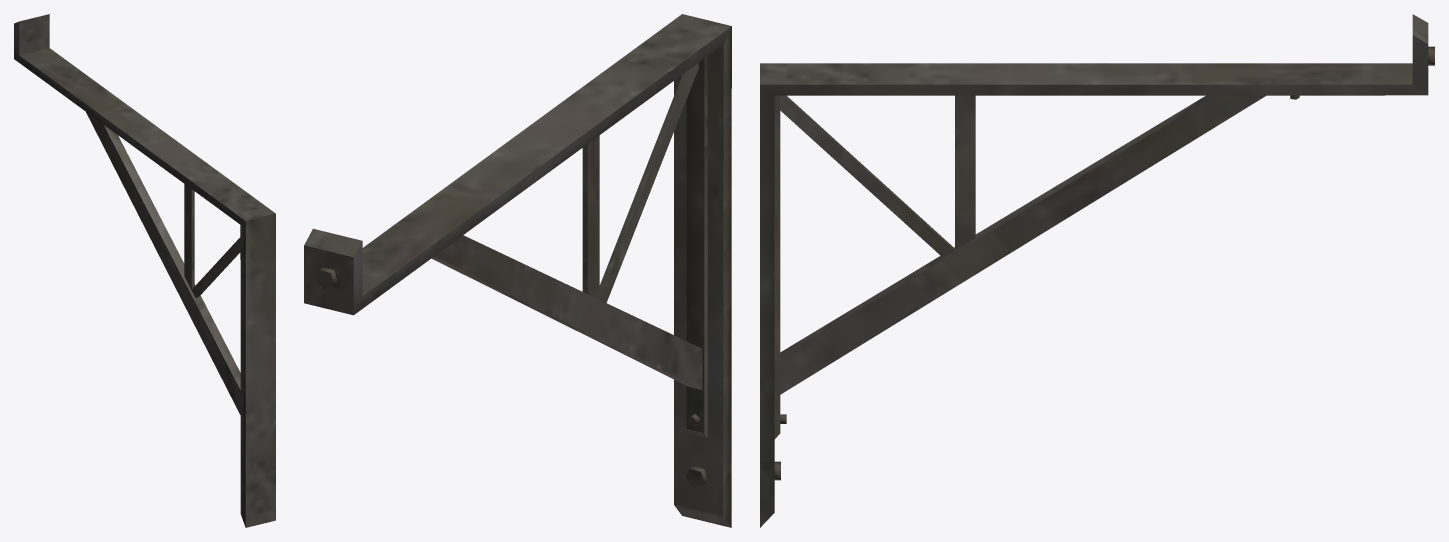
Rendered from prison_bracket001a.glb.
The picture shows the model from 3 angles, left to right: view 1: azimuth 30°, elevation 25°; view 2: azimuth 150°, elevation 25°; view 3: azimuth 270°, elevation 25°; orthographic projection. The views are drawn at different scales.
Visible parts, largest first — view 1: 0_prison_objects005; view 2: 0_prison_objects005; view 3: 0_prison_objects005.
Part boxes in pixels (left/top/right/bottom): 0_prison_objects005: left=14, top=14, right=275, bottom=527; 0_prison_objects005: left=304, top=14, right=731, bottom=527; 0_prison_objects005: left=760, top=14, right=1434, bottom=527.
Bounding box in the file's own units: 0.127 × 1.36 × 1.68.
1 material, 1 textured.
